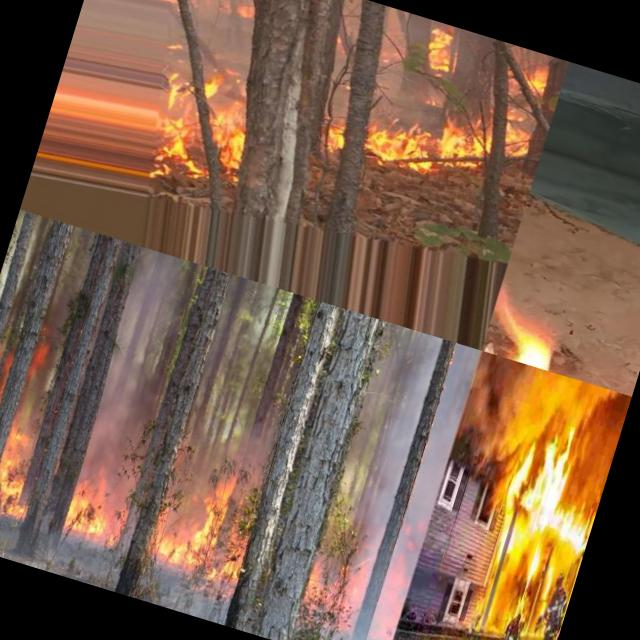fire: (330, 77, 492, 192), (497, 436, 611, 560), (185, 55, 273, 176), (484, 51, 560, 168), (159, 464, 235, 574), (406, 17, 466, 82), (334, 539, 380, 622), (64, 471, 119, 539), (369, 562, 414, 640), (0, 431, 36, 513)
smoke: (77, 248, 186, 480), (342, 325, 444, 529), (393, 344, 481, 566), (438, 350, 546, 510)
